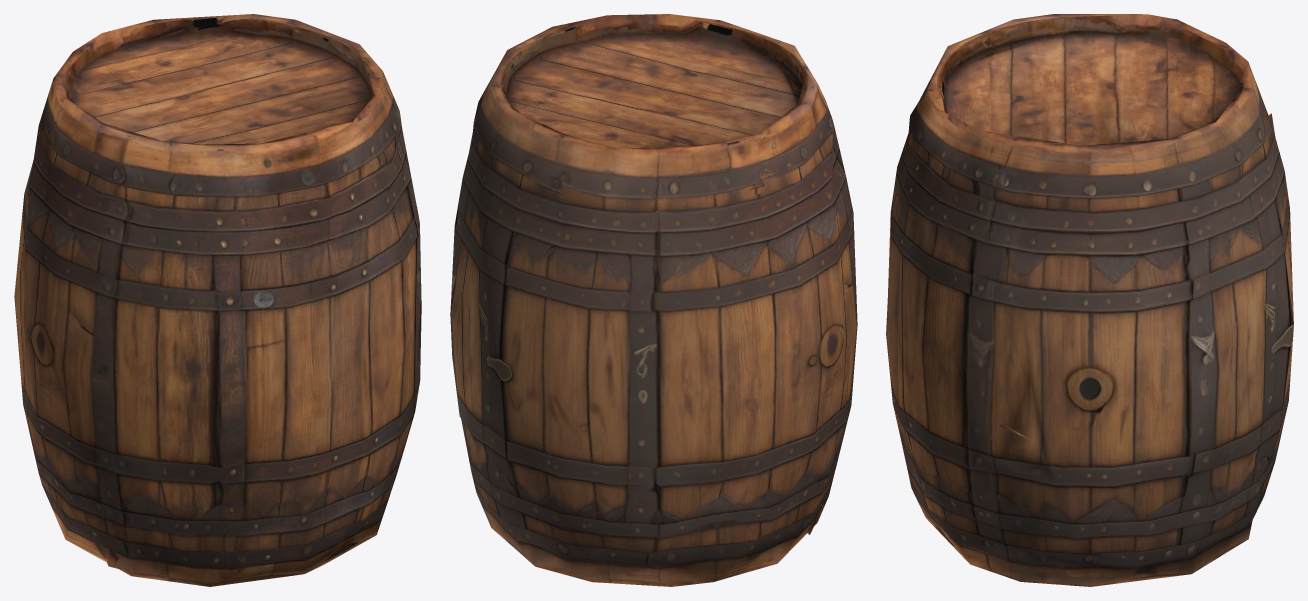
File: barrel.glb
3 renders of one model, left to right at view 1: azimuth 30°, elevation 25°; view 2: azimuth 150°, elevation 25°; view 3: azimuth 270°, elevation 25°, orthographic.
Parts seen in each view (by area): view 1: Mesh1.0; view 2: Mesh1.0; view 3: Mesh1.0.
Boxes of the visible parts, left/top/right/bottom form: Mesh1.0: left=14, top=14, right=421, bottom=586; Mesh1.0: left=450, top=14, right=857, bottom=586; Mesh1.0: left=886, top=14, right=1293, bottom=586.
Bounding box in the file's own units: 1.71 × 1.98 × 1.67.
1 material, 1 textured.
